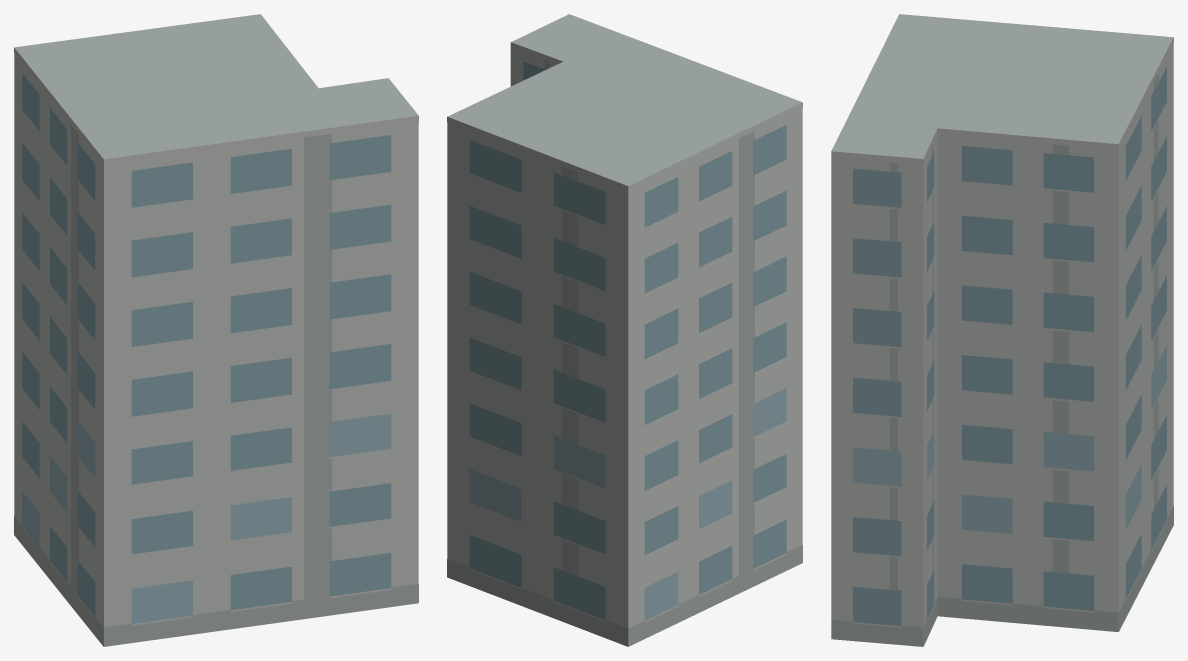
Rendered from survey-upis-32872848.glb.
3 renders of one model, left to right at view 1: azimuth 30°, elevation 25°; view 2: azimuth 150°, elevation 25°; view 3: azimuth 270°, elevation 25°, orthographic. The views are drawn at different scales.
Visible parts, largest first — view 1: survey-upis-32872848.tmp; view 2: survey-upis-32872848.tmp; view 3: survey-upis-32872848.tmp.
Boxes of the visible parts, bbox=[...] form: survey-upis-32872848.tmp: bbox=[14, 14, 418, 646]; survey-upis-32872848.tmp: bbox=[447, 14, 802, 646]; survey-upis-32872848.tmp: bbox=[831, 14, 1173, 646].
Size of the model in its own units: 12.82 by 20.1 by 12.8.
